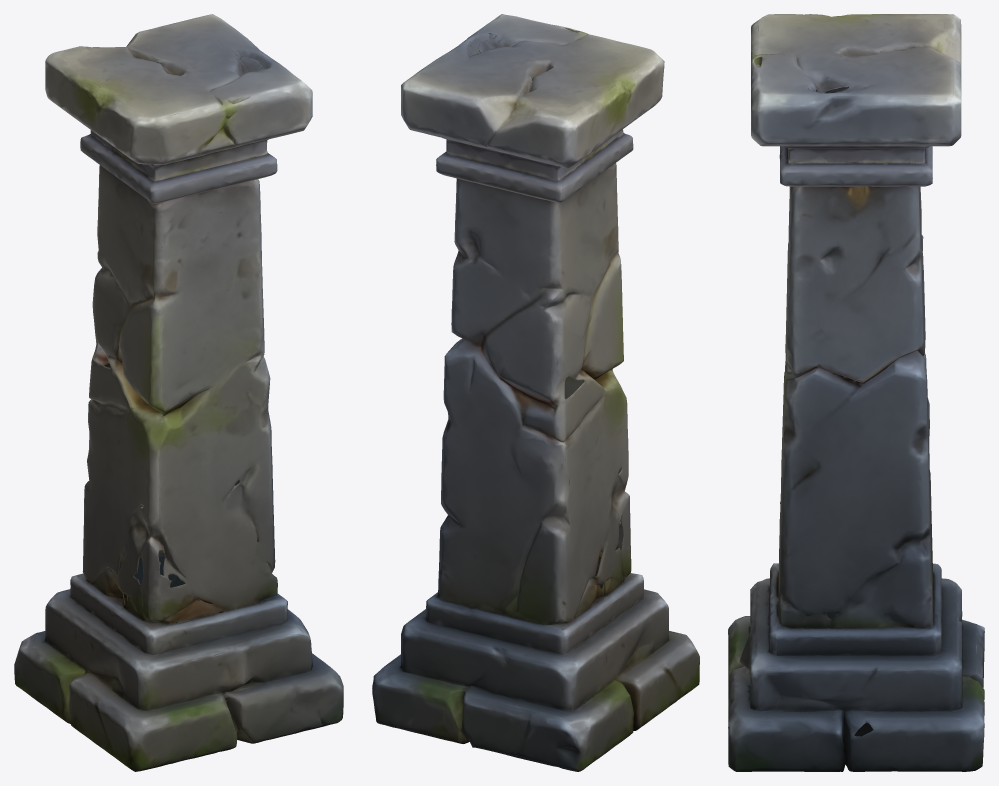
The model's file is crypt_SleekPillar.glb.
The picture shows the model from 3 angles, left to right: view 1: azimuth 30°, elevation 25°; view 2: azimuth 150°, elevation 25°; view 3: azimuth 270°, elevation 25°; orthographic projection. The views are drawn at different scales.
Parts seen in each view (by area): view 1: world; view 2: world; view 3: world.
Part boxes in pixels (box(x1,y1,x2,y2)): world: box(14, 14, 343, 771); world: box(372, 14, 699, 771); world: box(728, 14, 984, 771).
Size of the model in its own units: 0.3559 by 1 by 0.35.
1 material, 1 textured.
